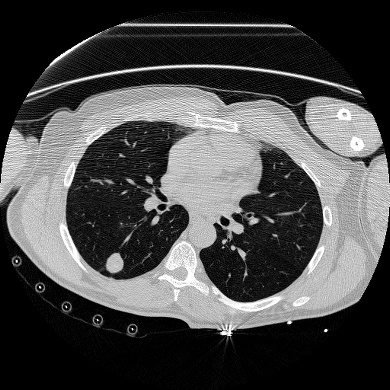PN: (105, 254, 125, 274)
